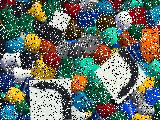Left: (29, 78, 73, 120)
Right: (94, 46, 148, 104)
